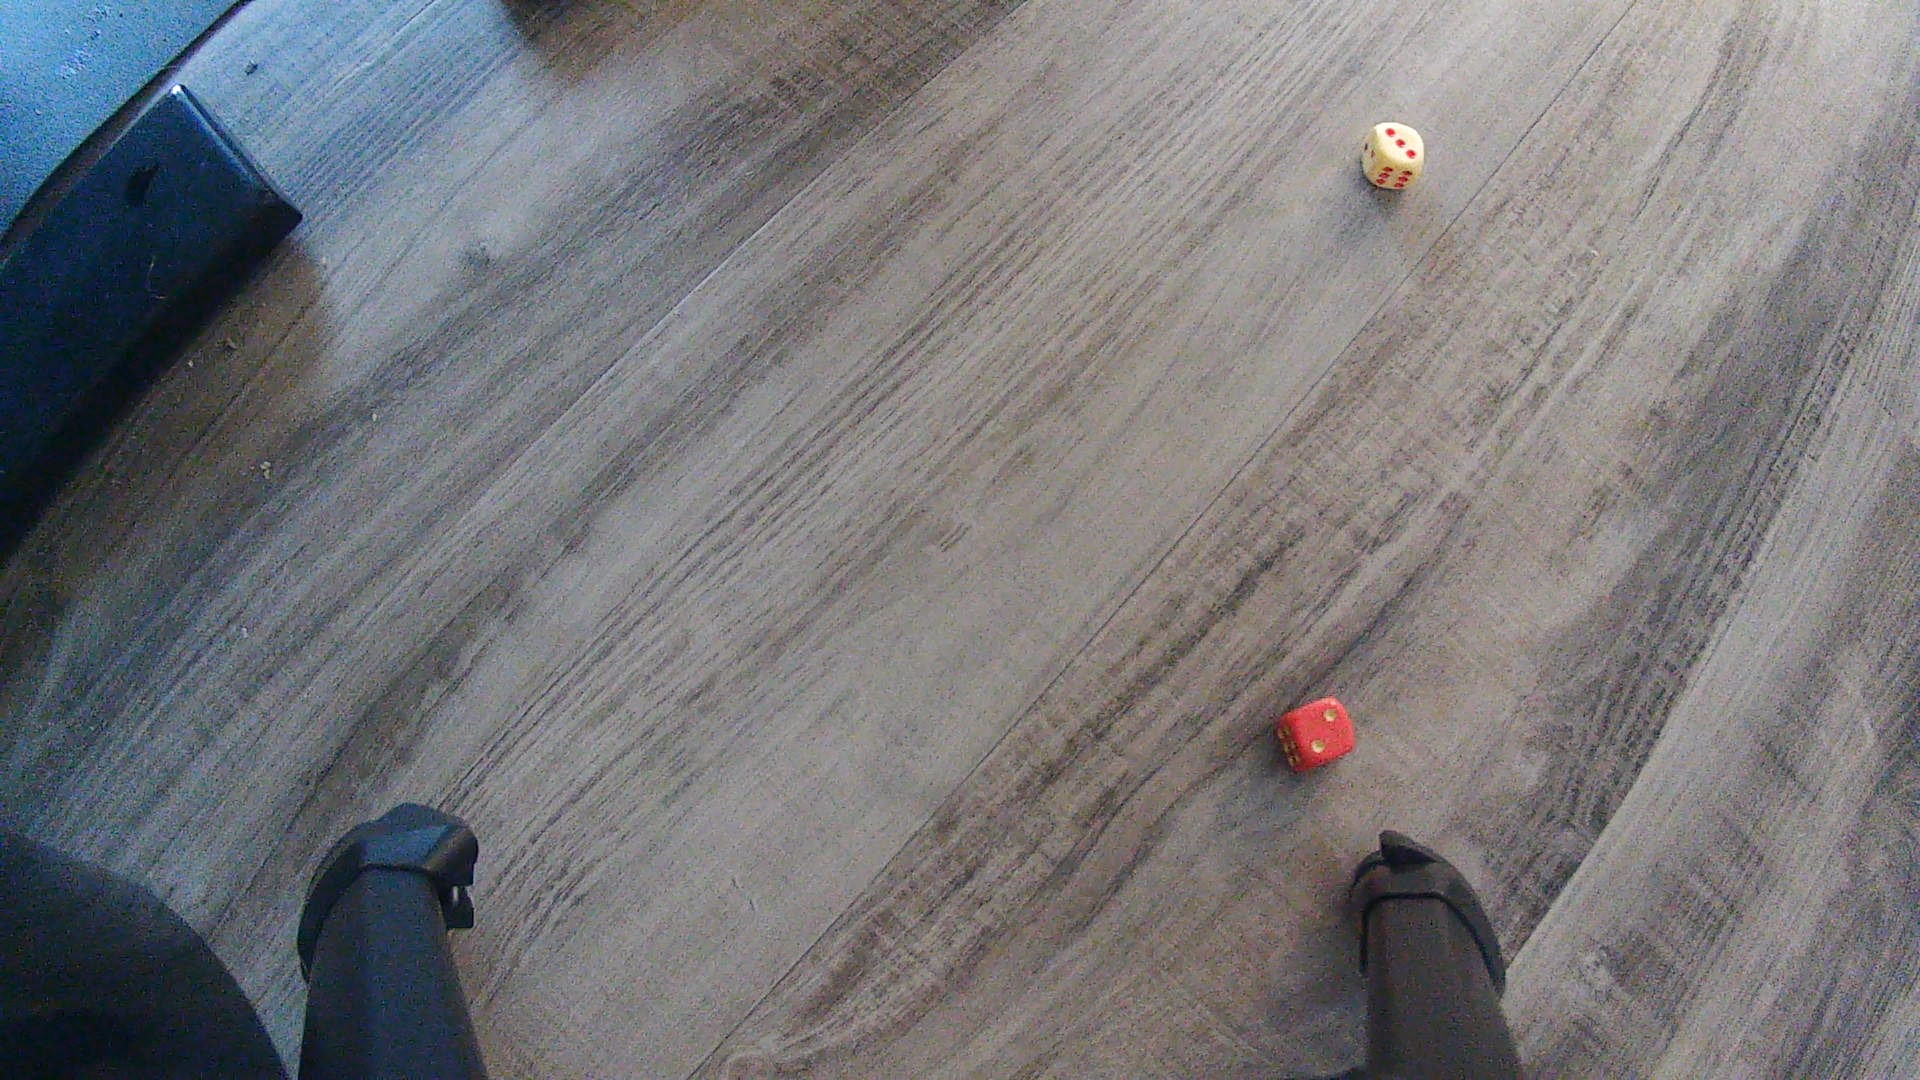die: (1276, 694, 1358, 774), (1360, 120, 1427, 191)
